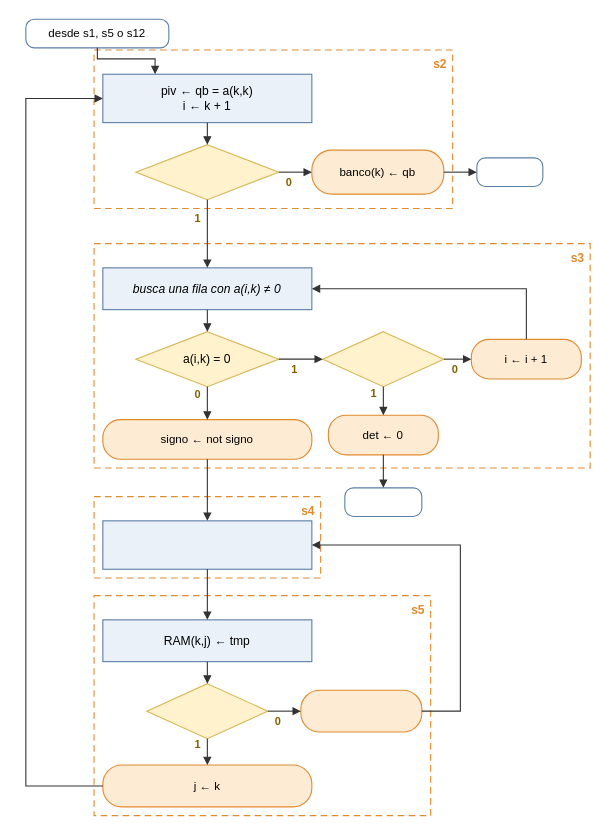
Image size: 609x835. Some labels were removed from this diagram. Each missing label, with the centre of its shape:
"a(k,k) = 0" belongs at pixel 207 172.
"i = n" belongs at pixel 383 359.
"j = n" belongs at pixel 207 711.
"j ← j + 1" belongs at pixel 361 710.
"RAM(i,j) ← qb = a(k,j) tmp ← qa = a(i,j)" belongs at pixel 207 544.
"s13" belongs at pixel 383 501.
"s6" belongs at pixel 509 171.
